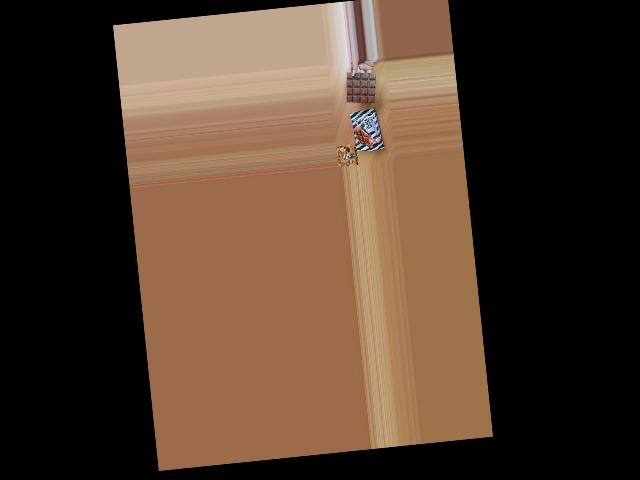chocolate: (350, 105, 384, 154)
